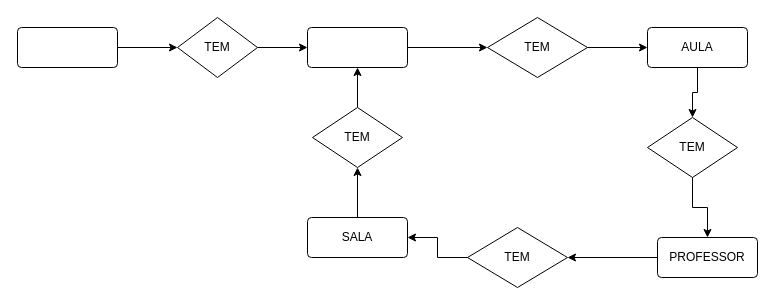
This 775x305 diagram has some shape labels left out. Each missing label, with the centre of its shape:
"ESCOLA" goes at (67,47).
"TURMAS" goes at (357,47).
